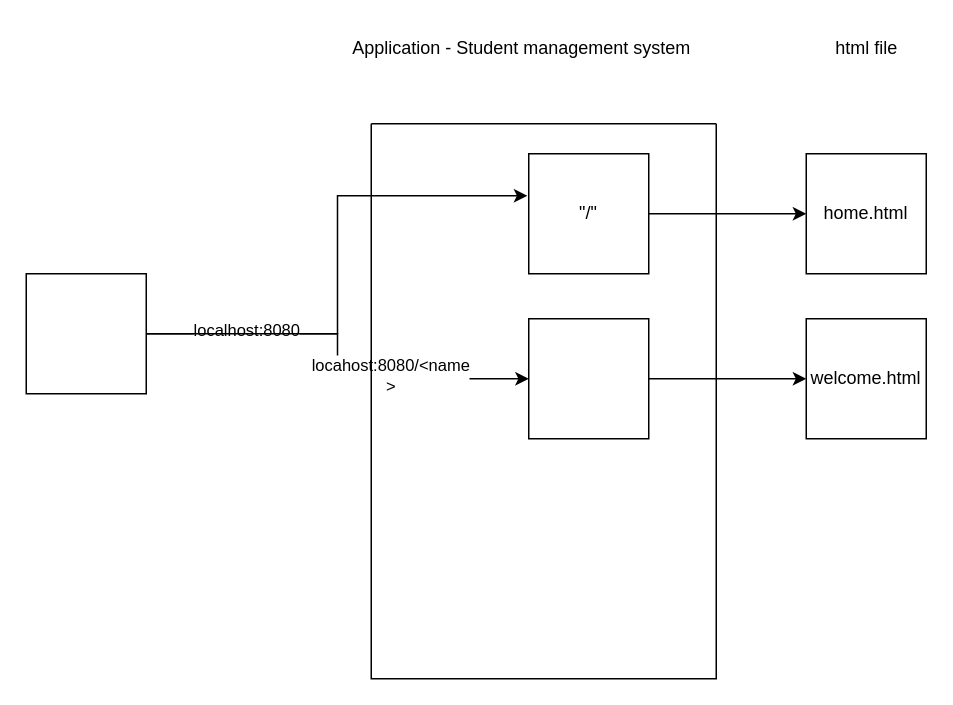
Image size: 953x705. Some labels were removed from this diagram. Each missing label, with the centre of its shape:
"/name": the point at 588,378
browsser: the point at 85,333
